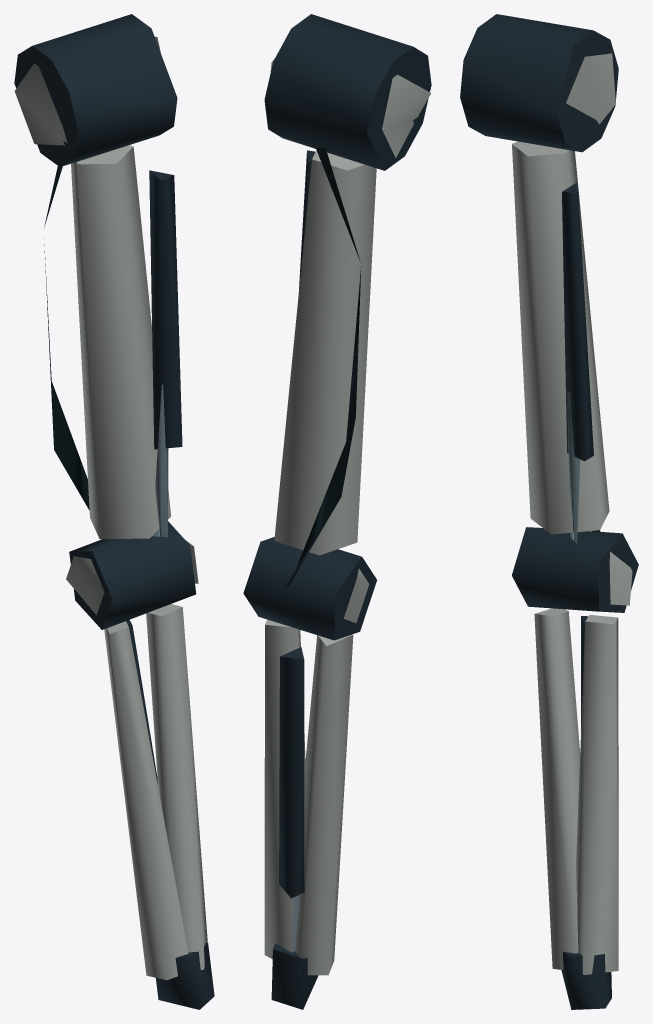
Rendered from aurel03_arm_l_d0_lod2.glb.
The picture shows the model from 3 angles, left to right: view 1: azimuth 30°, elevation 25°; view 2: azimuth 150°, elevation 25°; view 3: azimuth 330°, elevation 25°; orthographic projection. The views are drawn at different scales.
Parts seen in each view (by area): view 1: DISTANCE_SURFACE; view 2: DISTANCE_SURFACE; view 3: DISTANCE_SURFACE.
Boxes of the visible parts, box(x1,y1,x2,y2) form: DISTANCE_SURFACE: box(14, 14, 214, 1009); DISTANCE_SURFACE: box(243, 14, 431, 1009); DISTANCE_SURFACE: box(460, 14, 638, 1009).
Bounding box in the file's own units: 0.0983 × 0.5927 × 0.0741.
